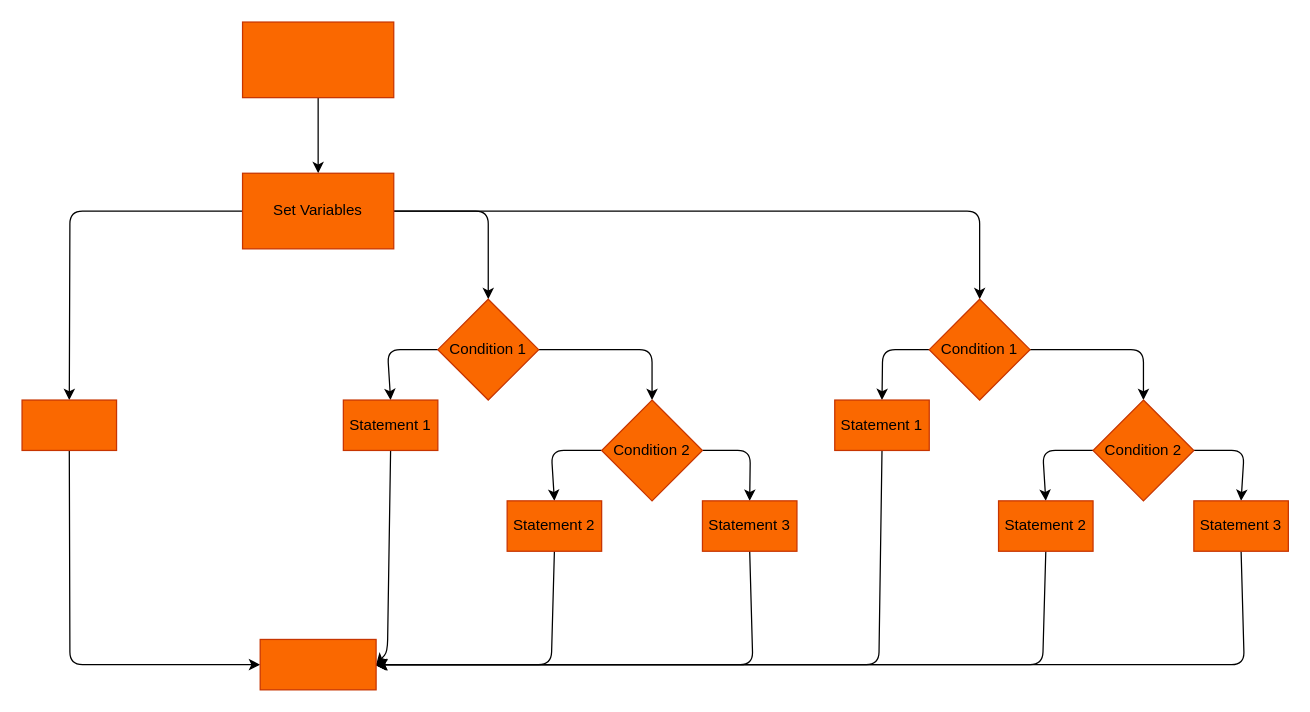
This 1310x712 diagram has some shape labels left out. Each missing label, with the centre of its shape:
"Print" belongs at (x=317, y=664).
"Set Median Var as 3 nums / 3" belongs at (x=69, y=424).
"Three Inputs" belongs at (x=317, y=59).
